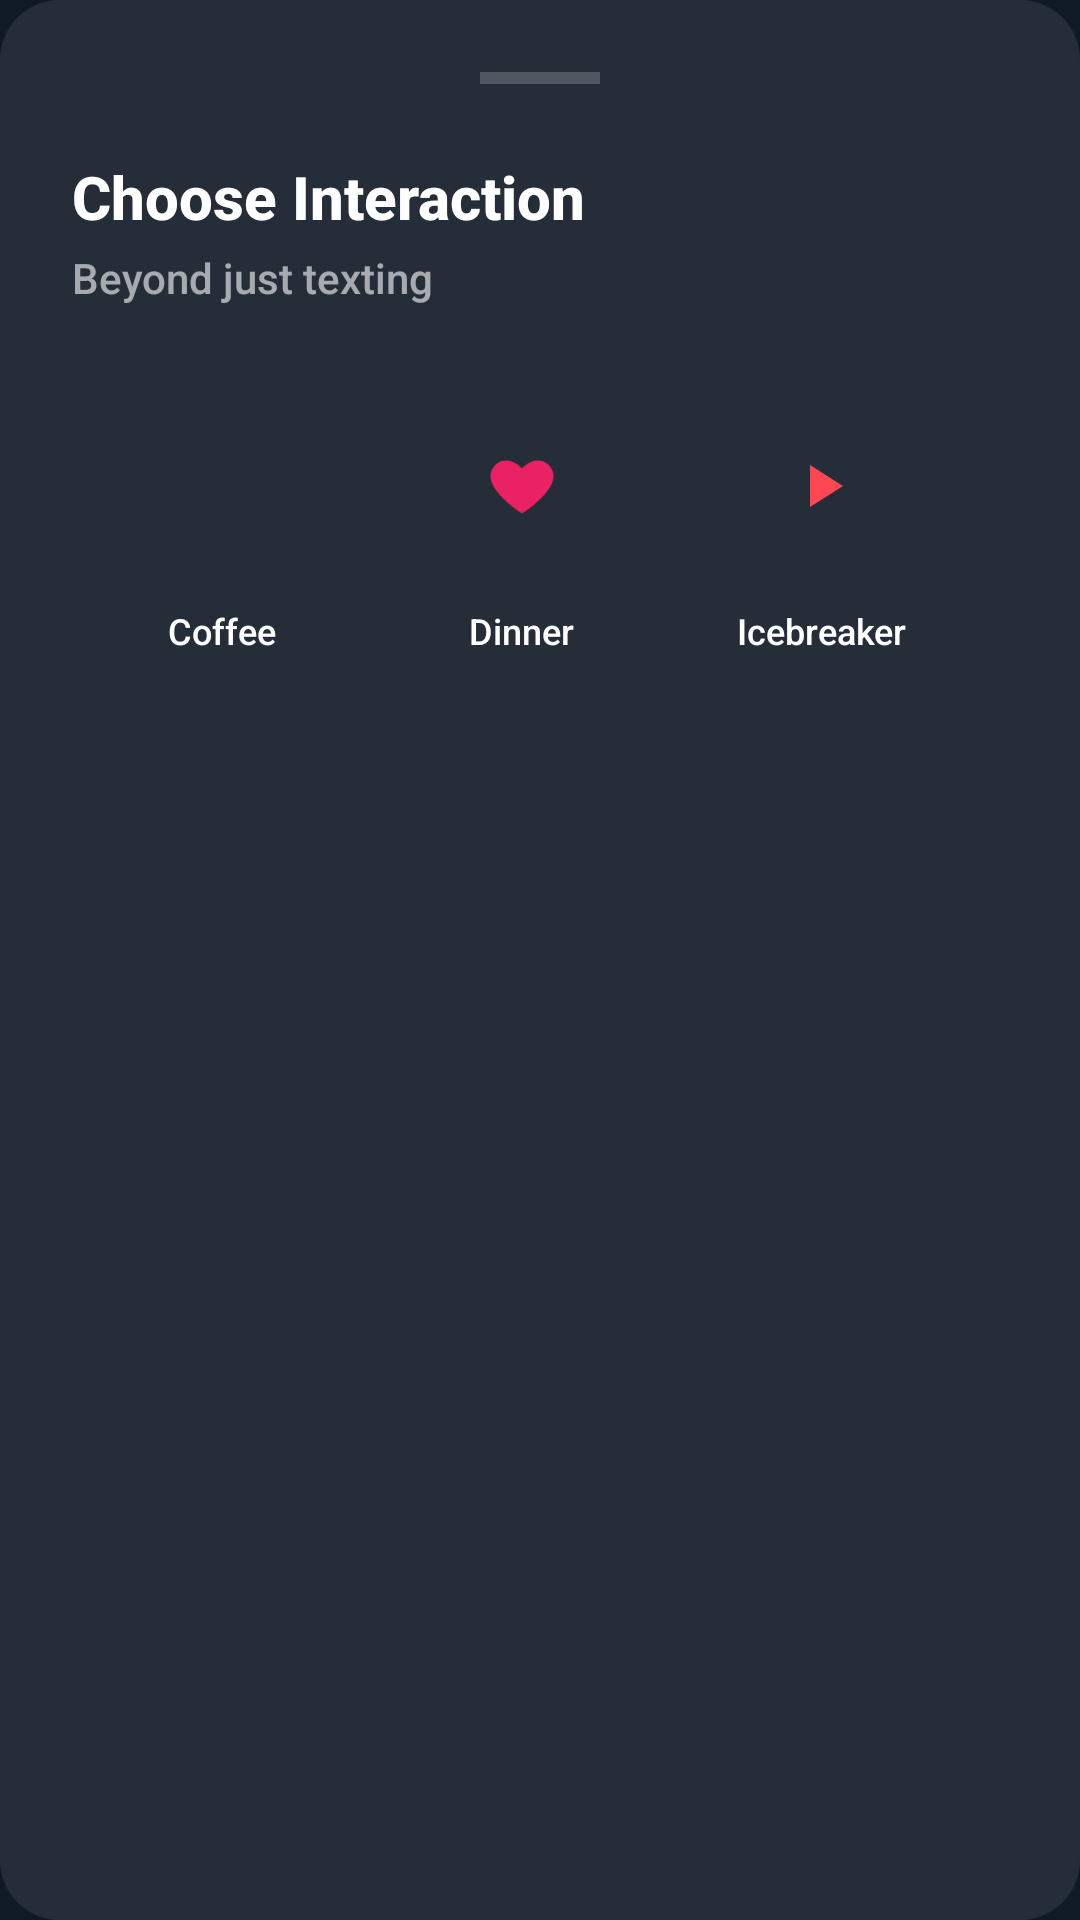

Screen size 1080 × 1920. Icon name, then its box in pixels as rect(x1, y1, x2, y2):
love: rect(490, 460, 554, 513)
play: rect(810, 465, 843, 507)
